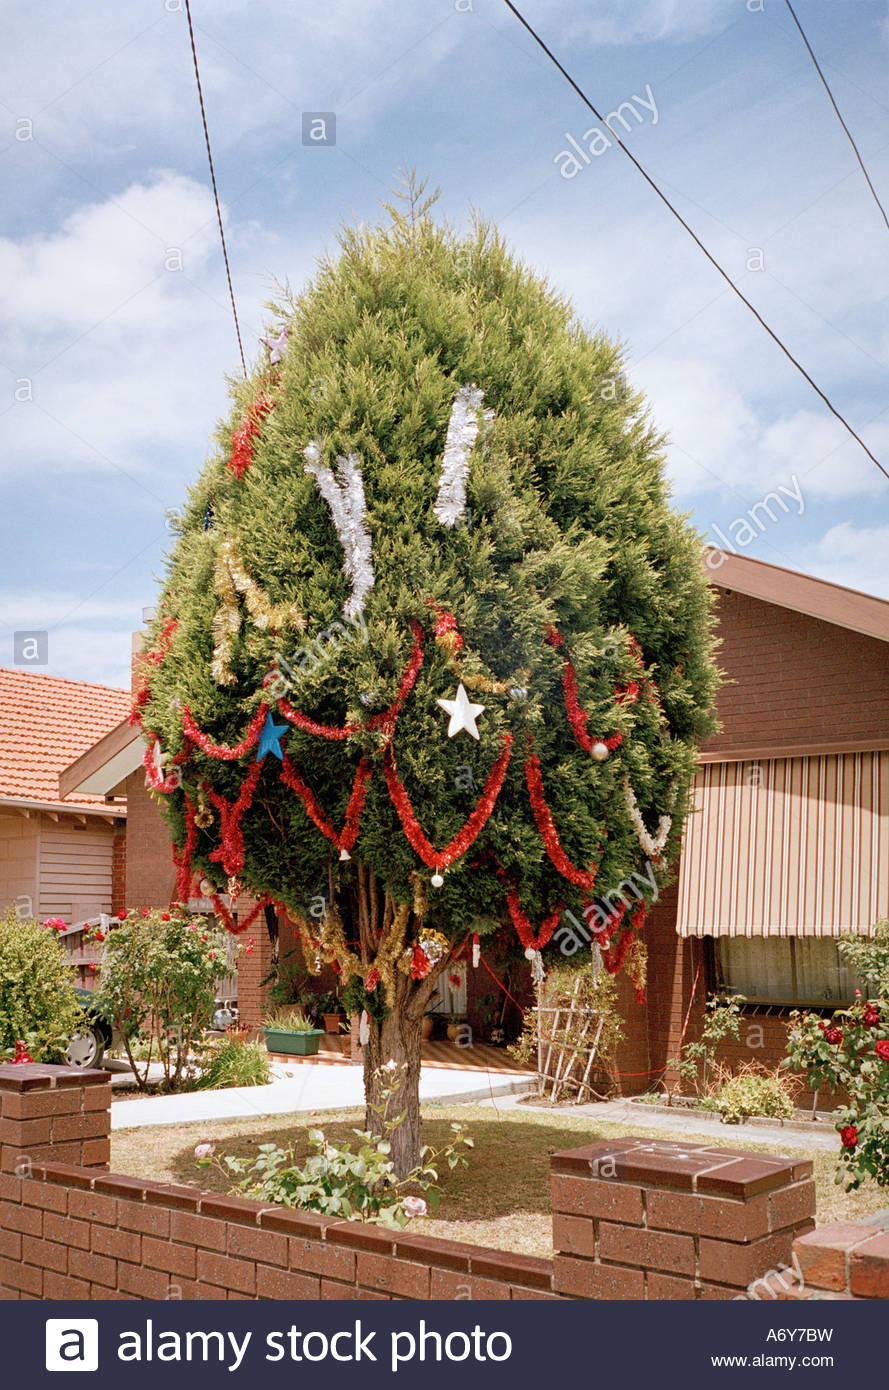tree: (146, 178, 718, 1162)
